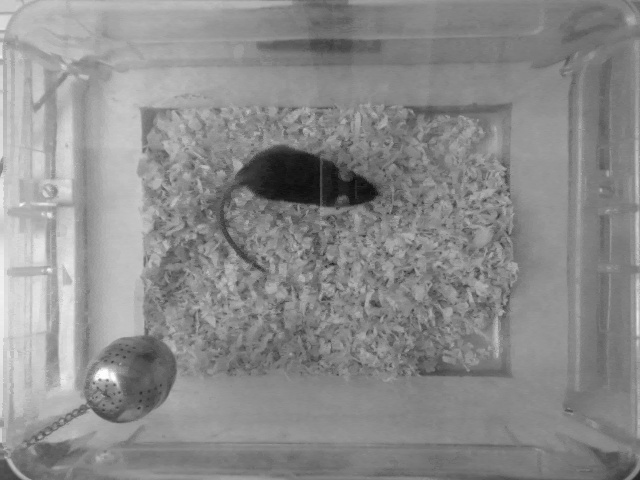mice: (220, 142, 385, 275)
